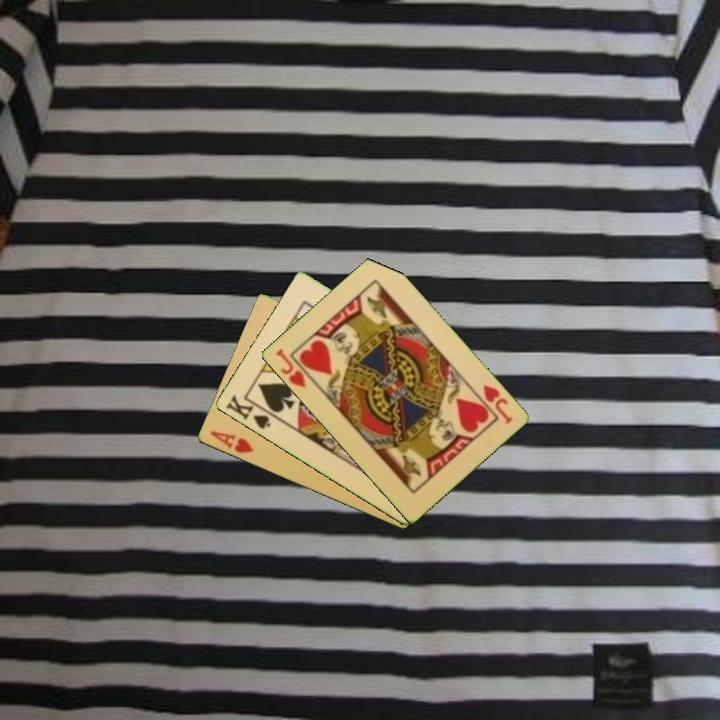Ah: (206, 427, 256, 456)
Jh: (272, 345, 309, 391), (479, 381, 515, 427)
Ks: (222, 391, 279, 432)
